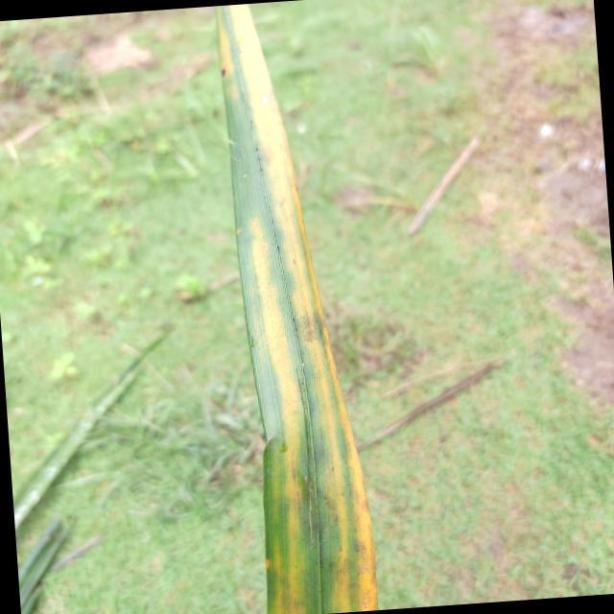Megnesium: (212, 3, 380, 614)
